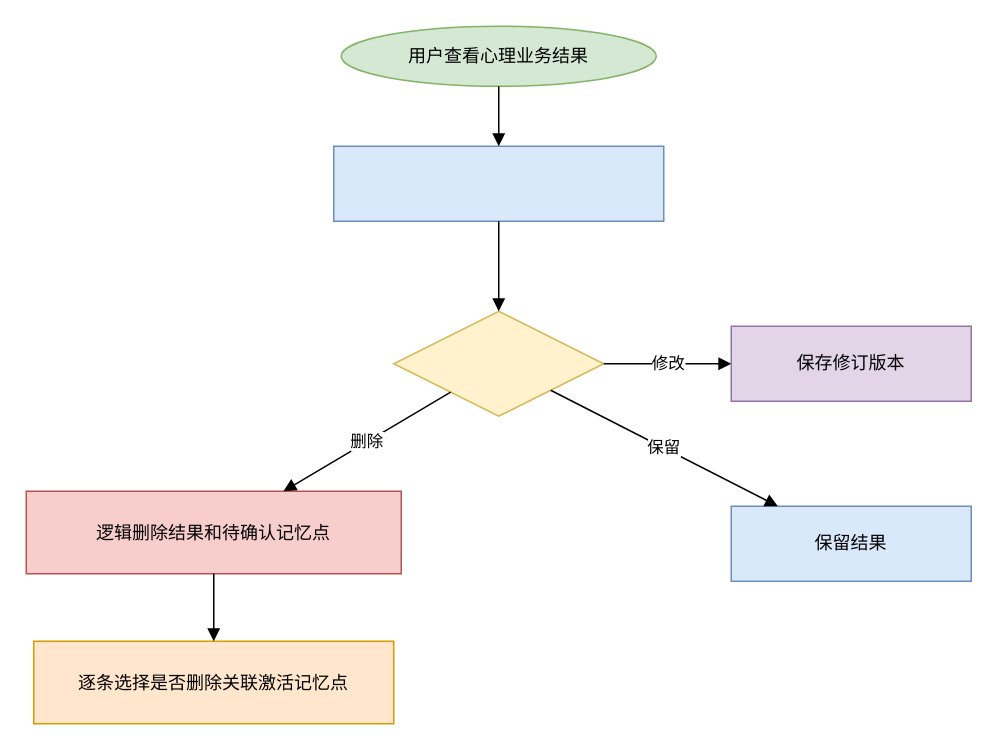
This 998x750 diagram has some shape labels left out. Each missing label, with the centre of its shape:
"修改、删除或保留？" goes at (498,363).
"查看阶段性总结或临时分析" goes at (498,183).
